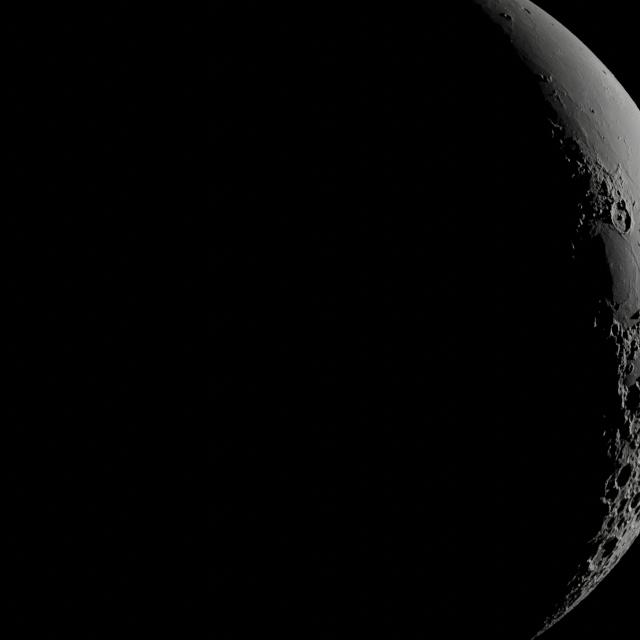crater: (589, 534, 623, 574), (607, 201, 635, 234), (612, 459, 636, 492), (626, 489, 640, 512)
rock: (618, 209, 624, 223)
